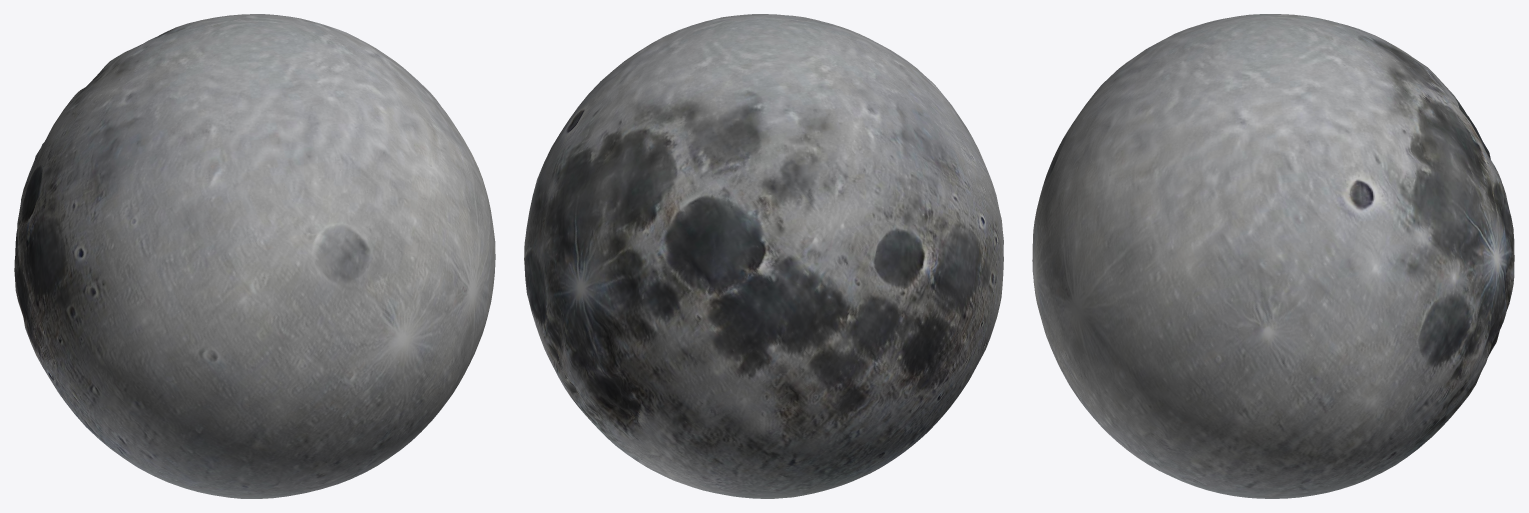
The model's file is moon.glb.
3 views of the same model, side by side, from view 1: azimuth 30°, elevation 25°; view 2: azimuth 150°, elevation 25°; view 3: azimuth 270°, elevation 25° (orthographic).
Visible parts, largest first — view 1: mesh_base_material_0; view 2: mesh_base_material_0; view 3: mesh_base_material_0.
Part boxes in pixels (x1=…): mesh_base_material_0: x1=14, y1=14, x2=495, y2=498; mesh_base_material_0: x1=524, y1=14, x2=1003, y2=498; mesh_base_material_0: x1=1032, y1=14, x2=1514, y2=498.
Size of the model in its own units: 0.9919 by 0.9996 by 0.9906.
1 material, 1 textured.
